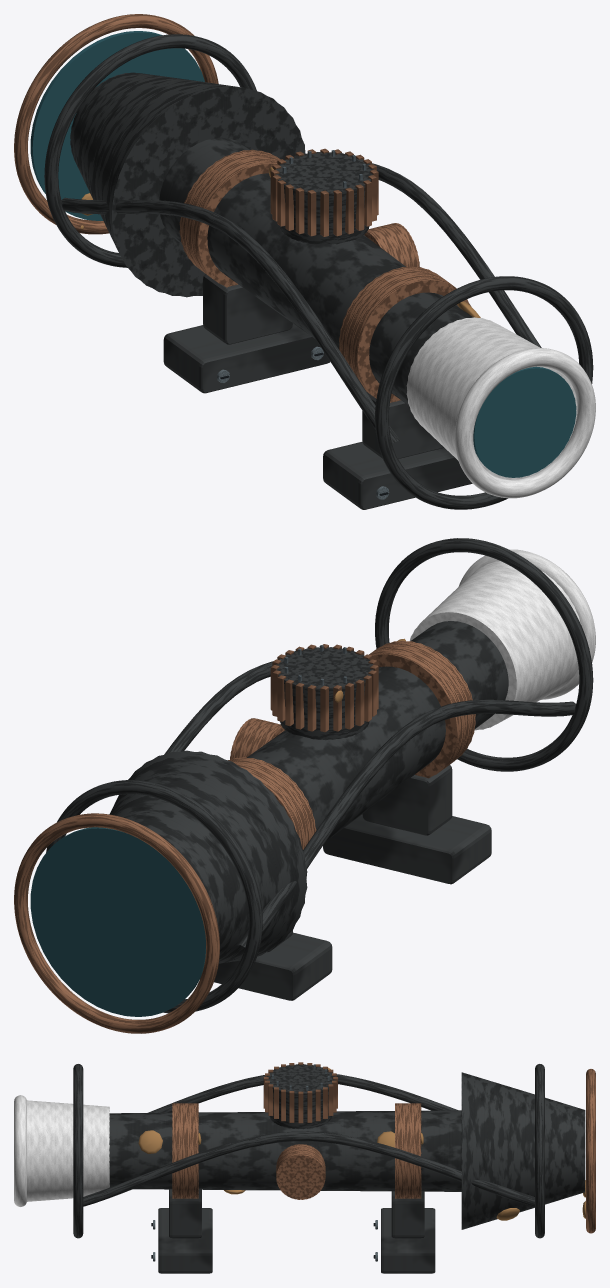
3 views of the same model, one above another, from view 1: azimuth 30°, elevation 25°; view 2: azimuth 150°, elevation 25°; view 3: azimuth 270°, elevation 25° (orthographic). The views are drawn at different scales.
Parts seen in each view (by area): view 1: machined receiver, edge hardware, coated optic, vulcanized grip, brushed steel; view 2: machined receiver, coated optic, edge hardware, vulcanized grip; view 3: machined receiver, edge hardware, vulcanized grip, peened pin.
Boxes of the visible parts, bbox=[...] form: machined receiver: bbox=[44, 34, 593, 509]; edge hardware: bbox=[14, 14, 471, 402]; coated optic: bbox=[30, 31, 576, 477]; vulcanized grip: bbox=[406, 317, 595, 498]; brushed steel: bbox=[217, 150, 389, 499]; machined receiver: bbox=[46, 538, 593, 1013]; coated optic: bbox=[30, 827, 205, 1016]; edge hardware: bbox=[14, 640, 475, 1033]; vulcanized grip: bbox=[410, 549, 595, 730]; machined receiver: bbox=[73, 1064, 585, 1273]; edge hardware: bbox=[172, 1062, 595, 1233]; vulcanized grip: bbox=[14, 1095, 109, 1206]; peened pin: bbox=[138, 1130, 519, 1220].
Bounding box in the file's own units: 0.106 × 0.1208 × 0.353.
7 materials, 4 textured.
